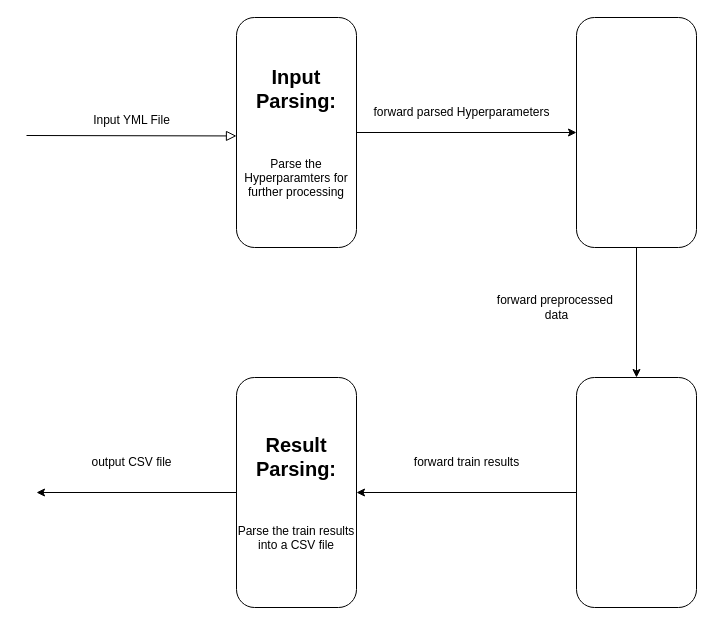
This 714x625 diagram has some shape labels left out. The shapes that lost their labels are listed below. From the top down, each one's centre as x and y in pixels, then its label:
(x=636, y=132): Data Pre- processing: Preprocess the input data for each model individually.
(x=636, y=492): Train: Train each model on each dataset with uniform and pair noise
